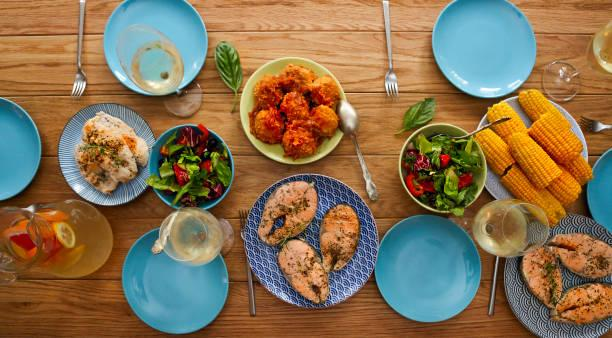Braised Crucian Carp: (242, 173, 379, 310), (505, 216, 611, 338), (481, 94, 586, 210), (239, 56, 345, 164), (62, 101, 156, 206), (402, 123, 487, 212), (151, 125, 235, 211)
